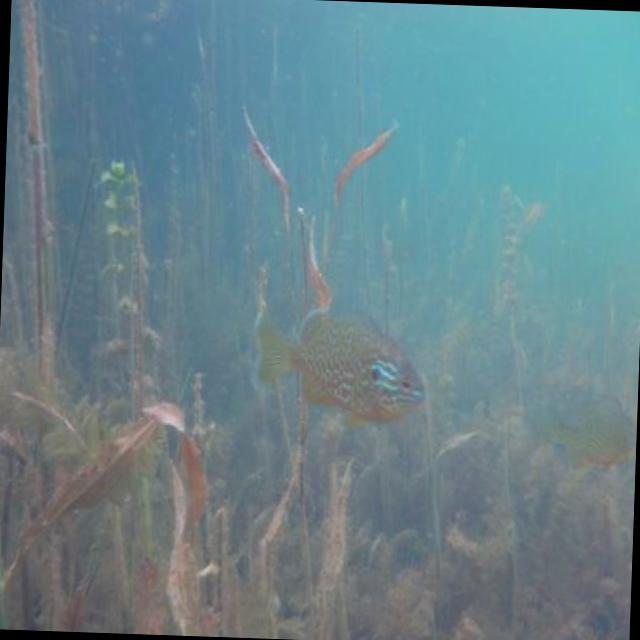Gunes Levregi: (242, 304, 432, 426)
